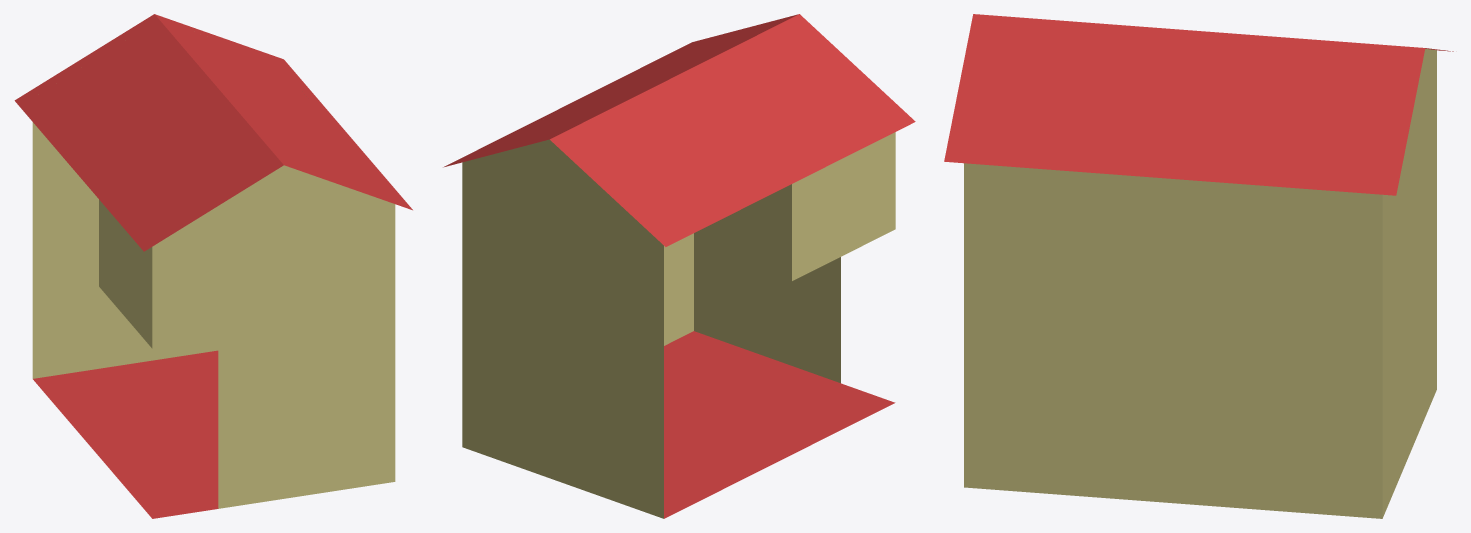
3 renders of one model, left to right at view 1: azimuth 30°, elevation 25°; view 2: azimuth 150°, elevation 25°; view 3: azimuth 270°, elevation 25°, orthographic. The views are drawn at different scales.
Bounding box in the file's own units: 12.35 × 15.04 × 13.28.
